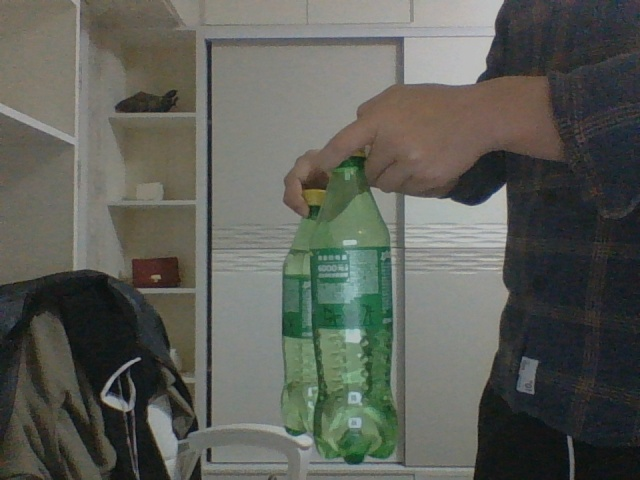Sprite: (311, 152, 398, 461), (279, 188, 324, 435)
